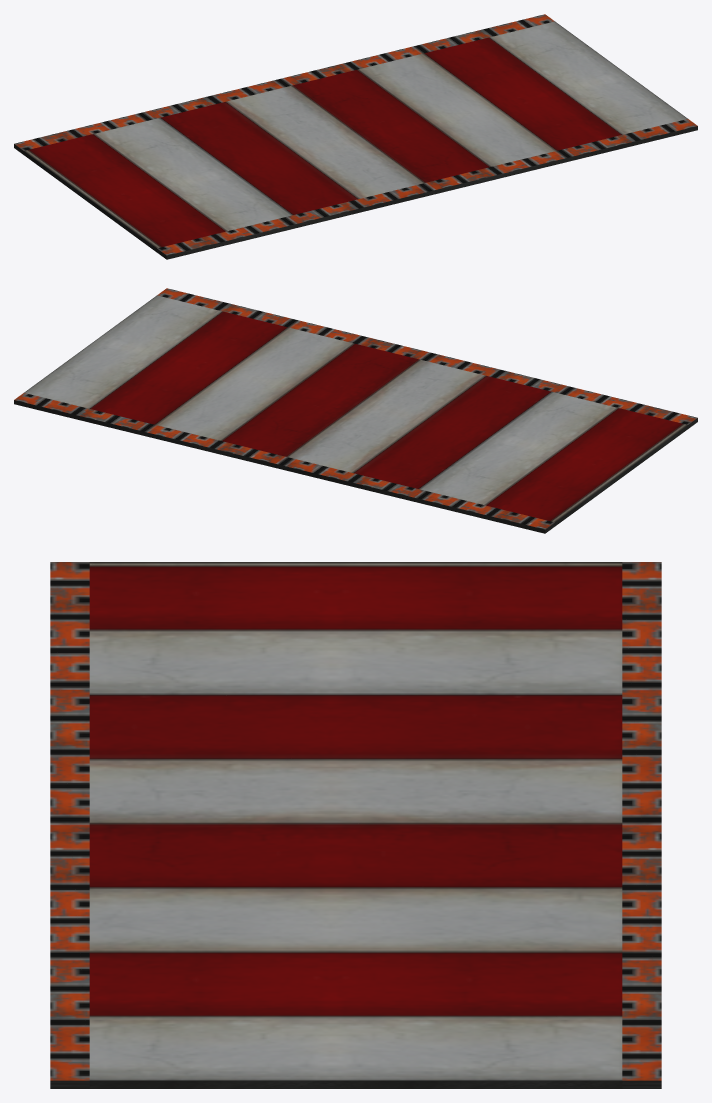
The model's file is rampa_01.FBX.
3 renders of one model, top to bottom at view 1: azimuth 30°, elevation 25°; view 2: azimuth 150°, elevation 25°; view 3: azimuth 270°, elevation 25°, orthographic. The views are drawn at different scales.
Parts seen in each view (by area): view 1: rampa_01; view 2: rampa_01; view 3: rampa_01.
Boxes of the visible parts, box(x1,y1,x2,y2) form: rampa_01: box(14, 14, 697, 259); rampa_01: box(14, 288, 697, 533); rampa_01: box(50, 562, 661, 1088).
Bounding box in the file's own units: 1000 × 7.5 × 498.
